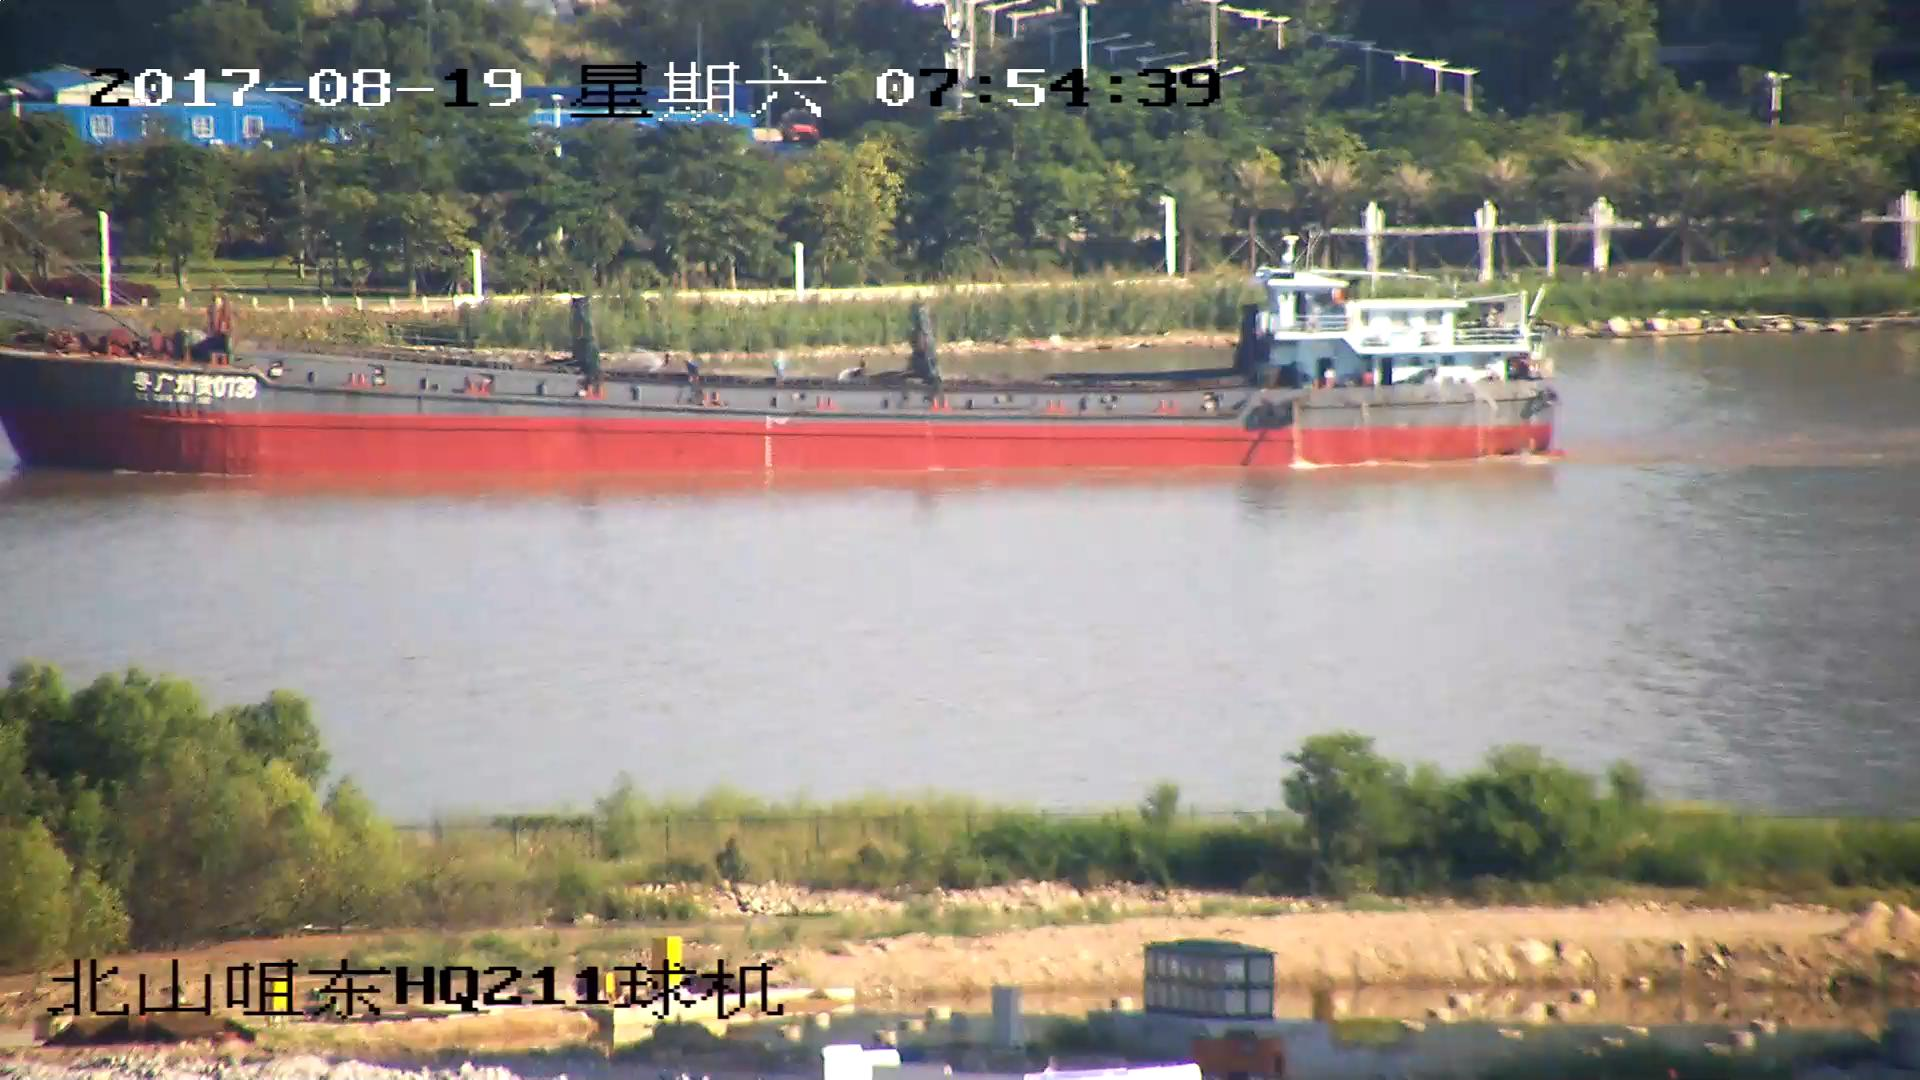bulk cargo carrier: (1, 266, 1558, 476)
